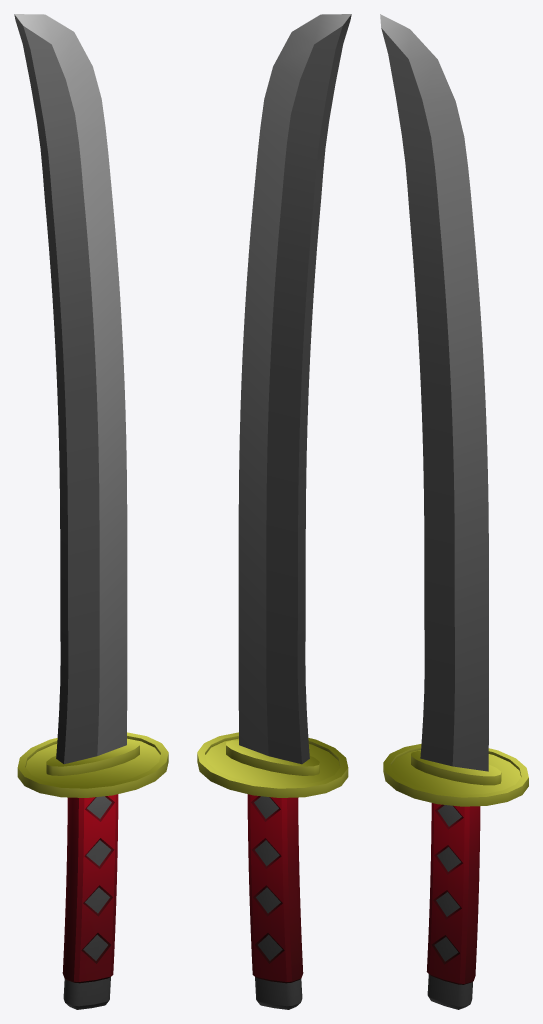
File: Katana.FBX
The picture shows the model from 3 angles, left to right: view 1: azimuth 30°, elevation 25°; view 2: azimuth 150°, elevation 25°; view 3: azimuth 330°, elevation 25°; orthographic projection. The views are drawn at different scales.
Parts seen in each view (by area): view 1: Box002, Box001, Cylinder001; view 2: Box002, Box001, Cylinder001; view 3: Box002, Box001, Cylinder001.
Part boxes in pixels (x1,y1,x2,y2): Box002: (14,14,127,764); Box001: (62,794,118,1009); Cylinder001: (17,732,168,797); Box002: (238,14,351,764); Box001: (247,794,303,1009); Cylinder001: (197,732,348,797); Box002: (380,14,488,771); Box001: (426,803,480,1009); Cylinder001: (383,743,528,806).
Size of the model in its own units: 16.42 by 107 by 12.2.
Materials: 1 (1 with a texture image).
